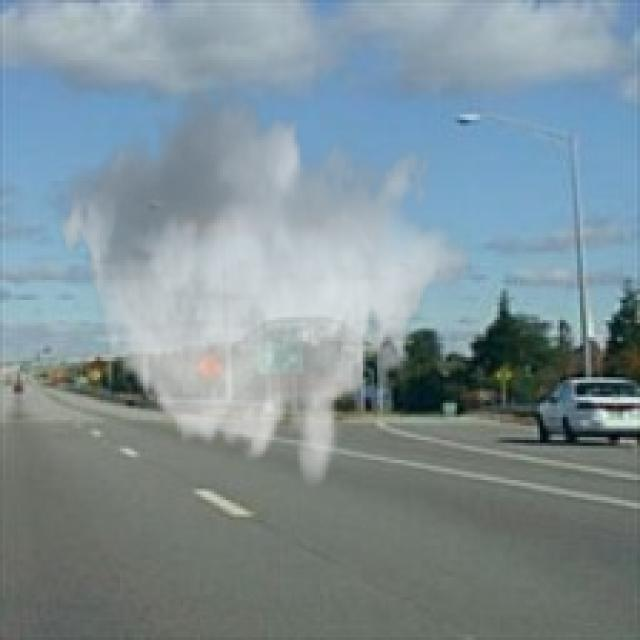Smoke: (54, 69, 472, 488)
